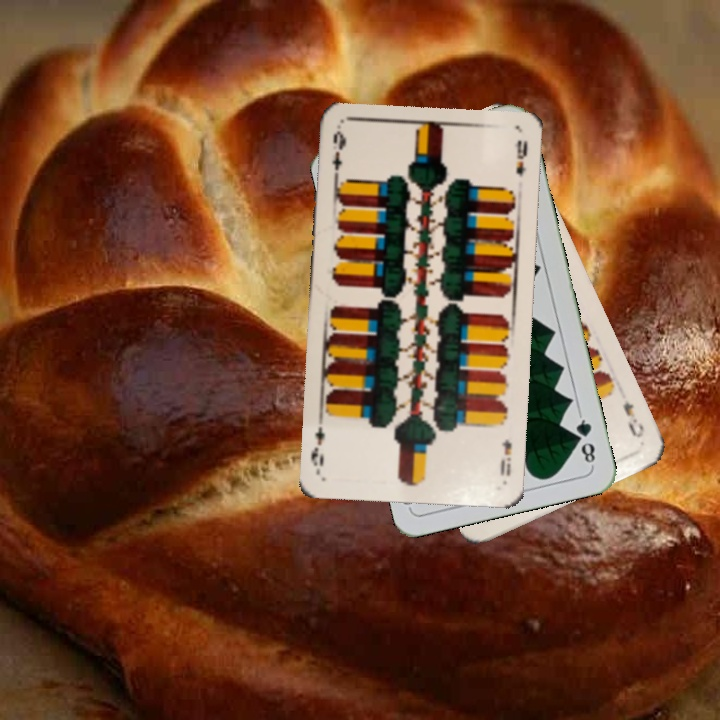E9: (328, 126, 349, 185), (619, 398, 647, 440), (496, 435, 515, 479)
G8: (571, 410, 598, 469)
